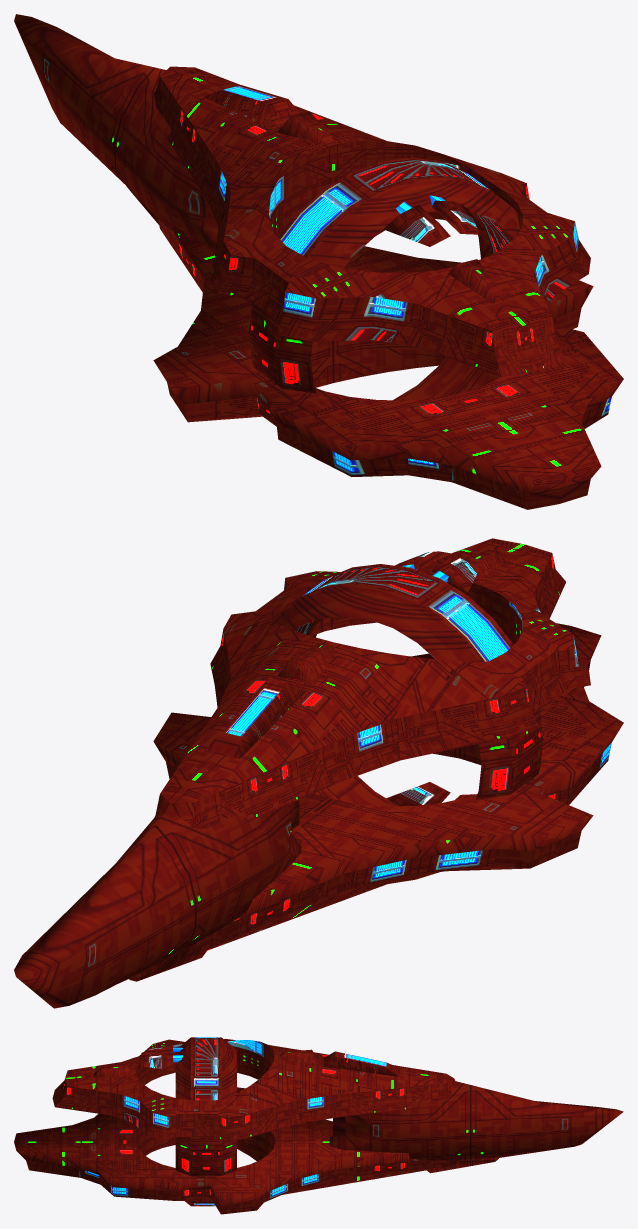
File: Vul_Taurik.fbx
3 views of the same model, one above another, from view 1: azimuth 30°, elevation 25°; view 2: azimuth 150°, elevation 25°; view 3: azimuth 270°, elevation 25° (orthographic). The views are drawn at different scales.
Visible parts, largest first — view 1: Vul_Taurik; view 2: Vul_Taurik; view 3: Vul_Taurik.
Boxes of the visible parts, x1,y1,x2,y2 form: Vul_Taurik: [14, 14, 623, 509]; Vul_Taurik: [14, 538, 623, 1008]; Vul_Taurik: [14, 1037, 623, 1214].
Bounding box in the file's own units: 226 × 143 × 515.
Materials: 1 (1 with a texture image).
